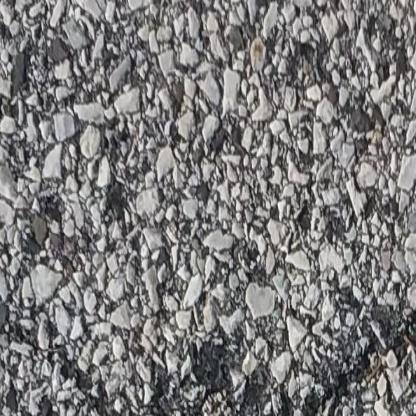Cracks: (293, 310, 416, 416), (252, 406, 285, 416)
